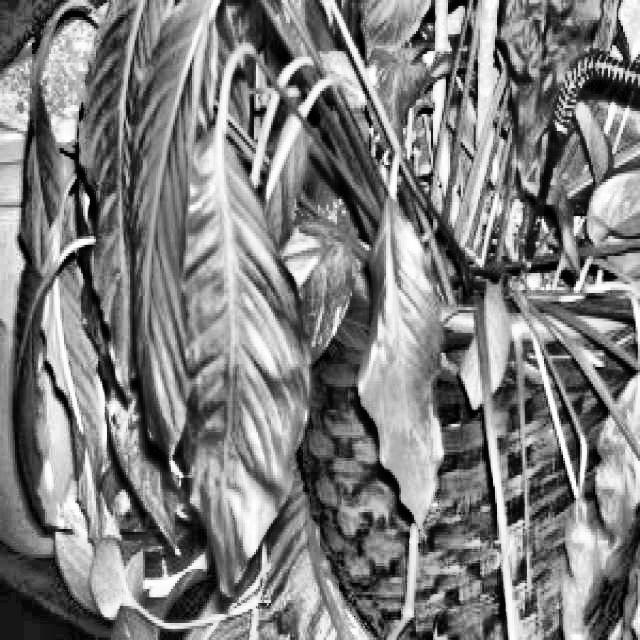plants: (17, 71, 638, 620)
